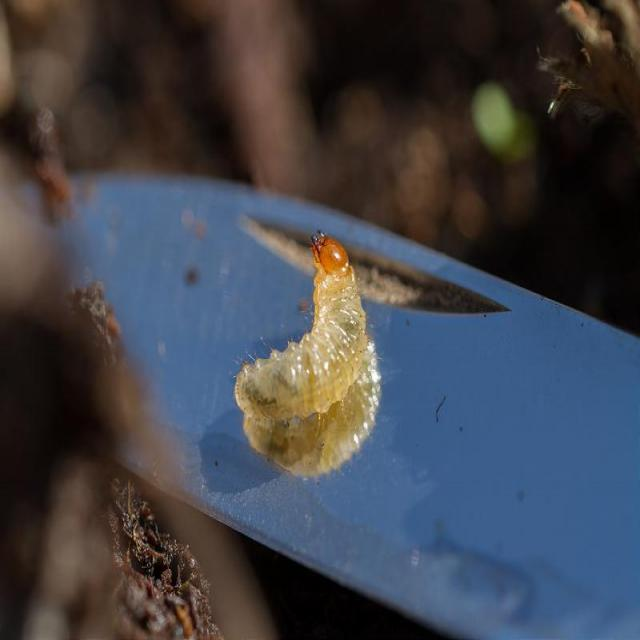Grub-Adult-: (204, 198, 387, 436)
